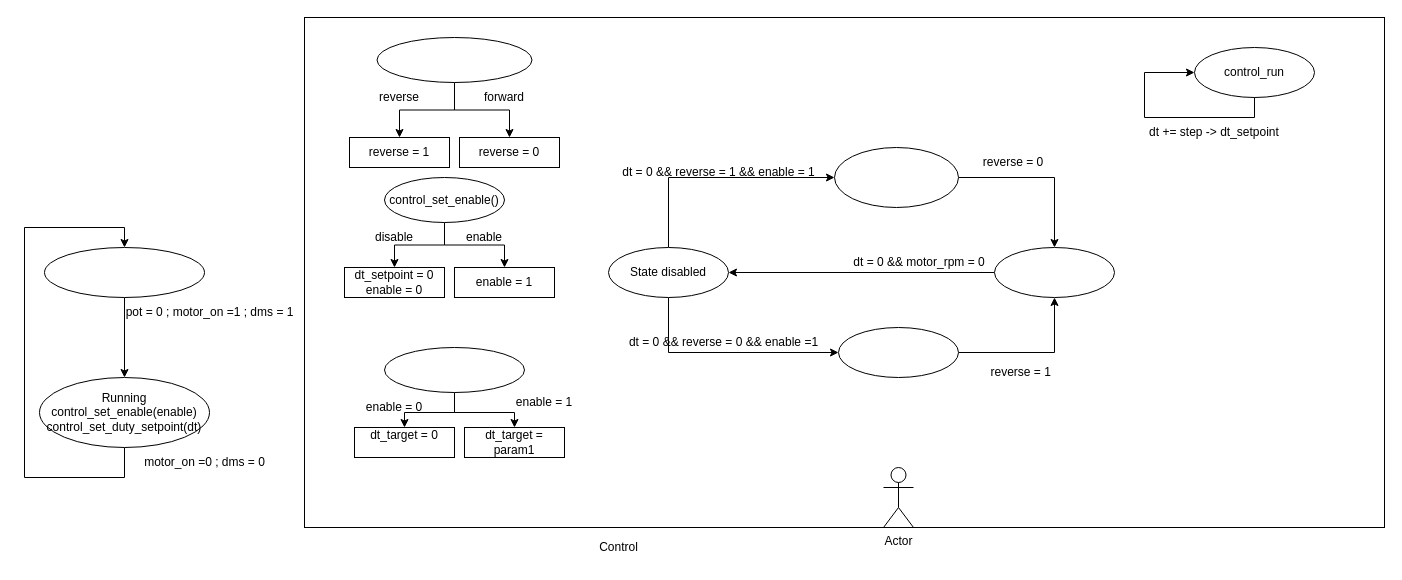
This 1402x580 diagram has some shape labels left out. Each missing label, with the centre of its shape:
"control_set_duty_setpoint" goes at (x=454, y=369).
"control_set_reverse_motor()" goes at (x=454, y=59).
"Idle control_set_enable(disable)" goes at (x=124, y=272).
"State forward dt_setpoint = dt_target" goes at (x=898, y=352).
"State motor stopping dt_setpoint = 0" goes at (x=1054, y=272).
"State reverse dt_setpoint = dt_target" goes at (x=896, y=177).
